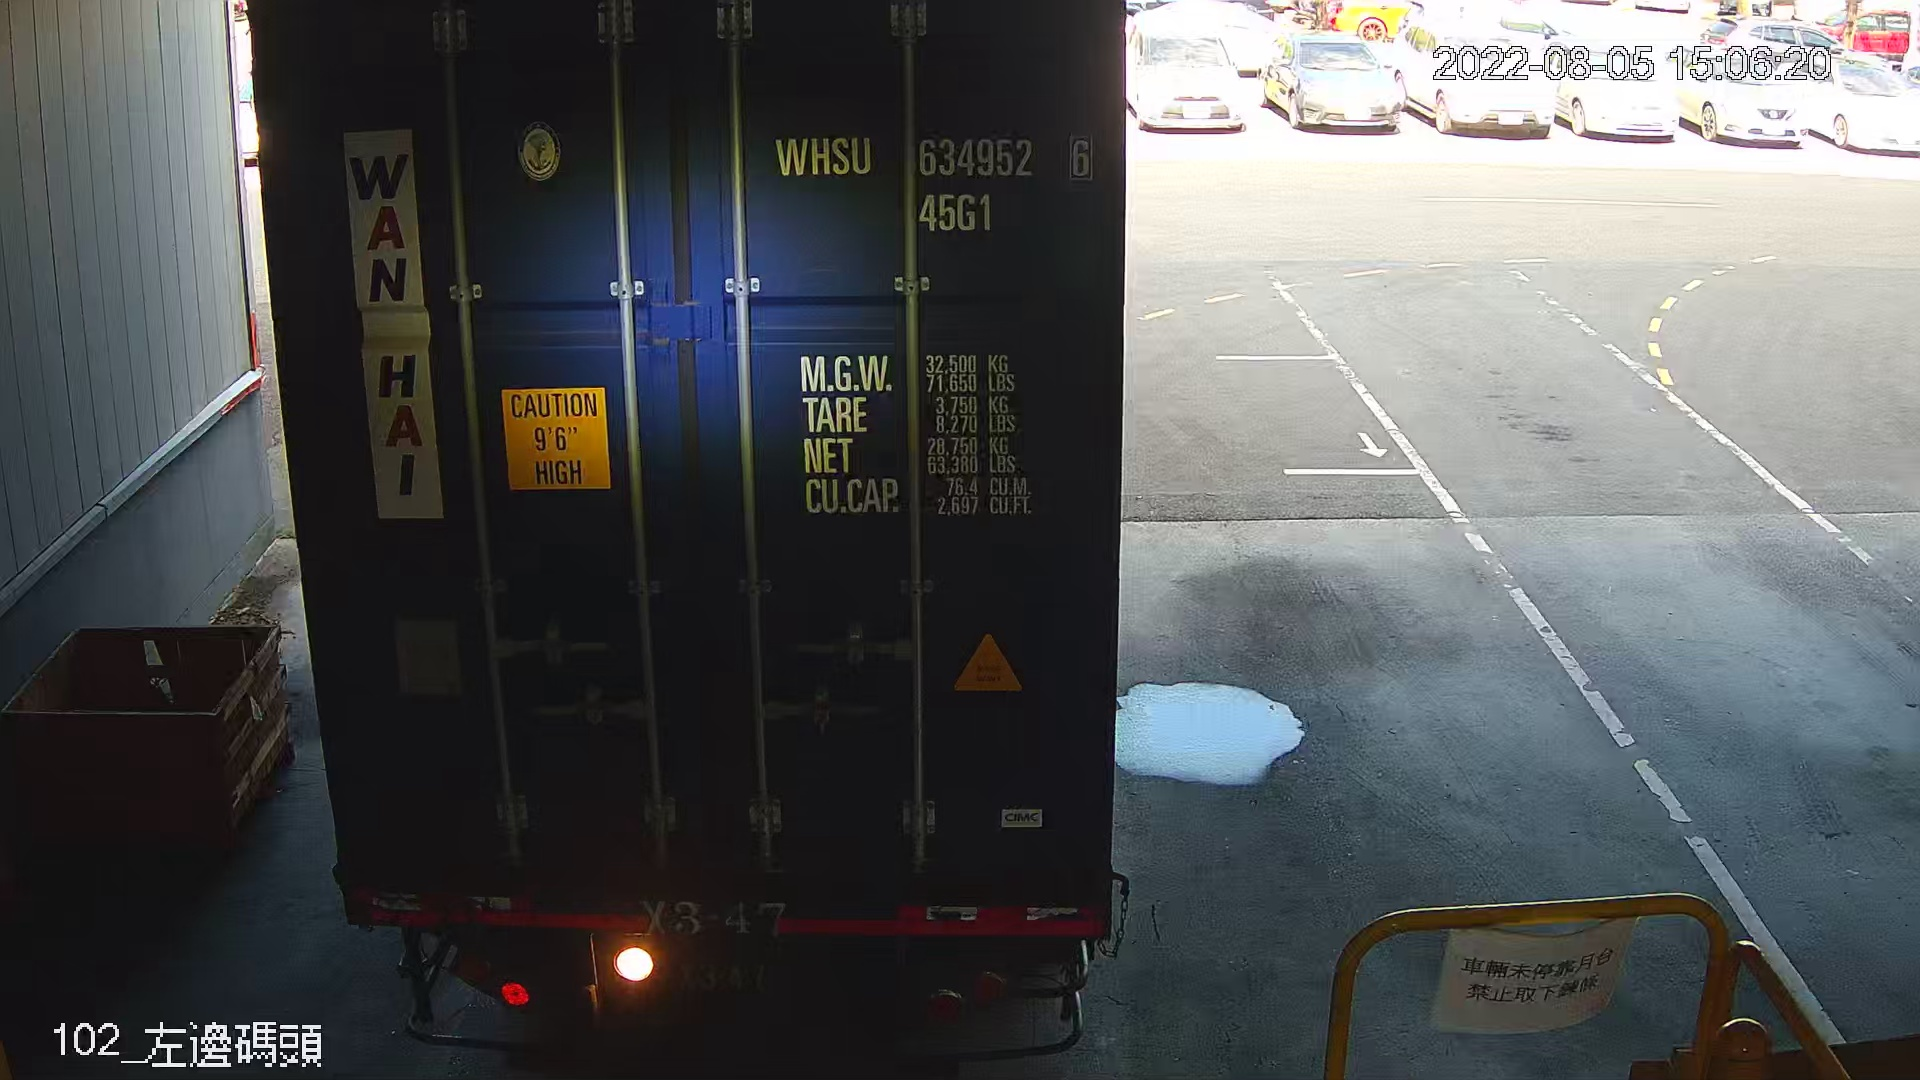container: (764, 116, 1104, 245)
